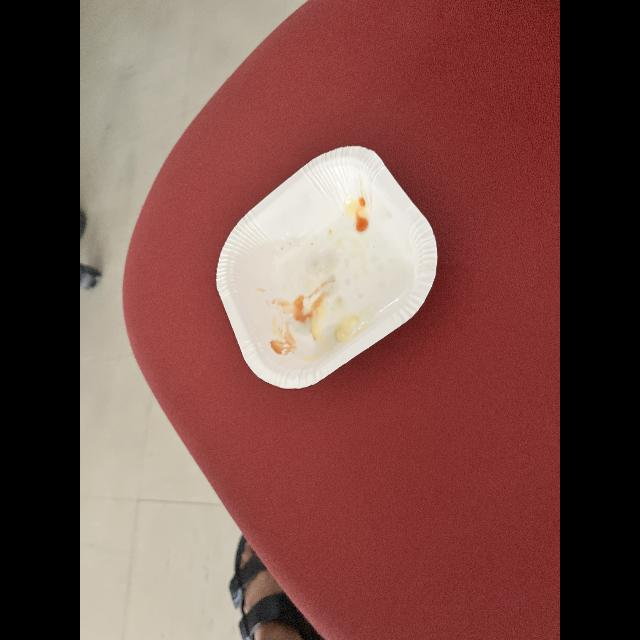cardboard_bowl: (198, 145, 448, 389)
